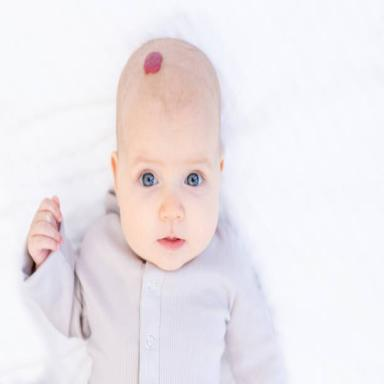Hemangiome: (143, 52, 162, 74)
